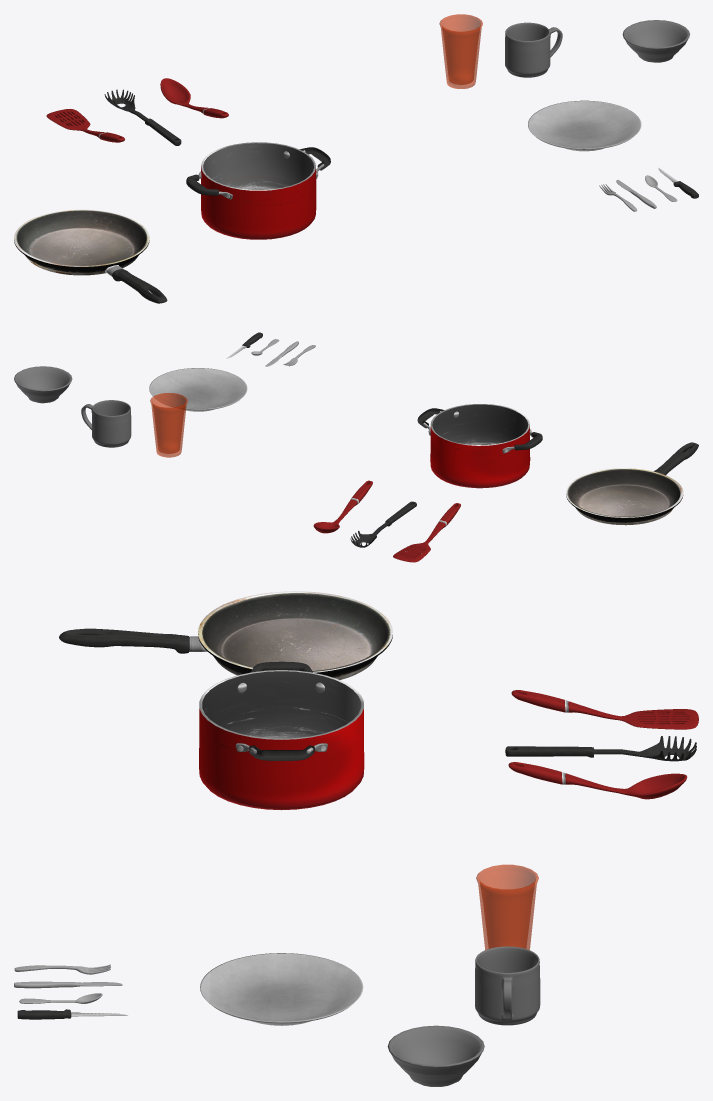
Rendered from stuff.fbx.
3 views of the same model, one above another, from view 1: azimuth 30°, elevation 25°; view 2: azimuth 150°, elevation 25°; view 3: azimuth 270°, elevation 25° (orthographic). The views are drawn at different scales.
Parts seen in each view (by area): view 1: Pot, Pan, Plate, Cup, CupHandle, Bowl, Main, Scoop1, ScoopStuff, Handle; view 2: Pot, Pan, Plate, Cup, CupHandle, Bowl, Main, Scoop1, ScoopStuff, Handle; view 3: Pot, Pan, Plate, CupHandle, Cup, Bowl, Main, Scoop1, Handle, ScoopStuff.
Part boxes in pixels (x1,y1,x2,y2): Pot: (201, 142, 316, 239); Pan: (14, 209, 149, 275); Plate: (528, 100, 641, 151); Cup: (439, 14, 482, 88); CupHandle: (505, 22, 562, 77); Bowl: (622, 20, 689, 62); Main: (46, 109, 124, 142); Scoop1: (160, 78, 228, 118); ScoopStuff: (104, 89, 181, 145); Handle: (112, 269, 167, 303); Pot: (430, 404, 530, 488); Pan: (566, 468, 683, 525); Plate: (149, 368, 247, 411); Cup: (150, 393, 187, 457); CupHandle: (81, 400, 131, 447); Bowl: (14, 366, 72, 403); Main: (393, 503, 460, 562); Scoop1: (313, 480, 372, 533); ScoopStuff: (350, 501, 416, 547); Handle: (654, 442, 698, 475); Pot: (199, 670, 364, 810); Pan: (198, 591, 392, 679); Plate: (200, 953, 363, 1025); CupHandle: (475, 946, 540, 1025); Cup: (476, 864, 538, 949); Bowl: (387, 1025, 484, 1086); Main: (511, 690, 698, 729); Scoop1: (508, 762, 687, 799); Handle: (59, 628, 189, 653); ScoopStuff: (505, 736, 696, 761).
Bounding box in the file's own units: 191 × 17.69 × 111.
